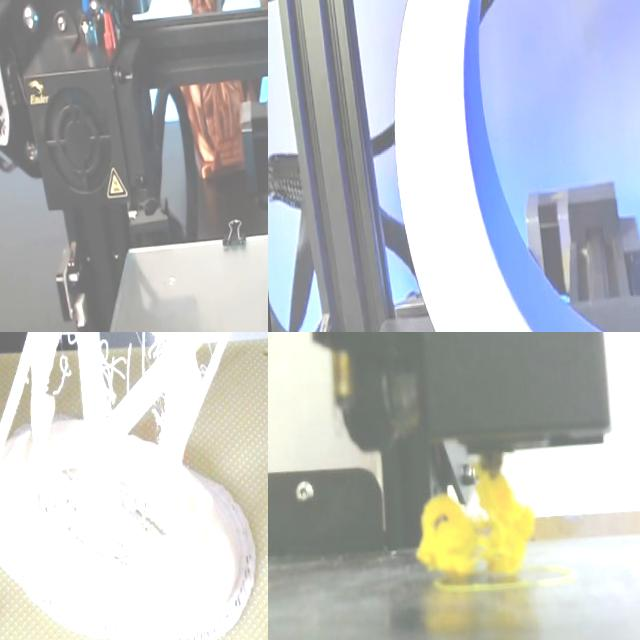spaghetti: (417, 469, 534, 577), (108, 458, 176, 552), (86, 332, 170, 388), (32, 451, 86, 536), (113, 628, 172, 640)
